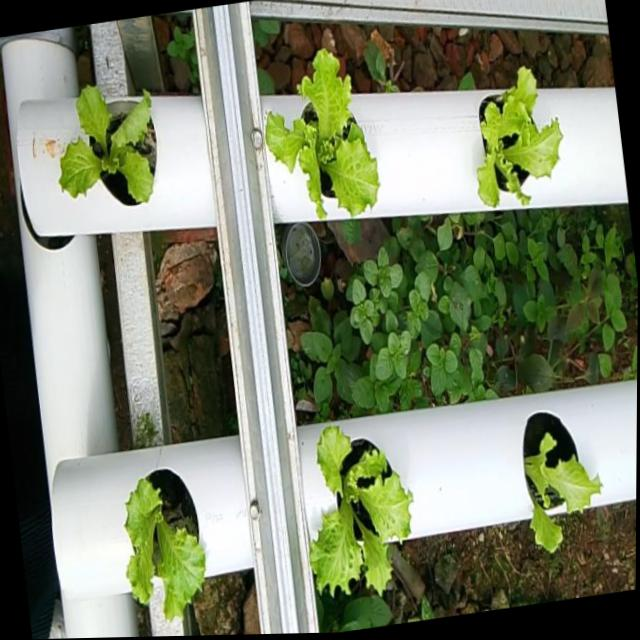Baby: (265, 50, 380, 220), (309, 426, 412, 609), (125, 469, 205, 620), (58, 85, 157, 207), (477, 68, 562, 208), (523, 412, 601, 553)
